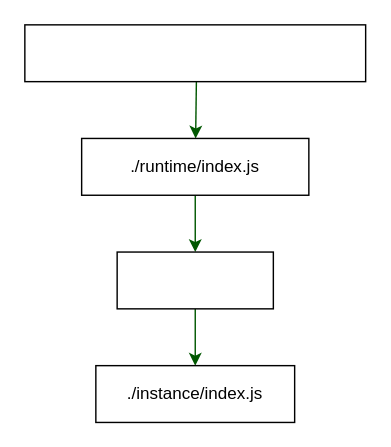
Some shapes in this 391 by 447 pixel diagram are drawn without their labels. Each missing label, with the centre of its shape:
"core/index.js" belongs at point (194, 280).
"entry-runtime-width-compiler.js" belongs at point (194, 52).
